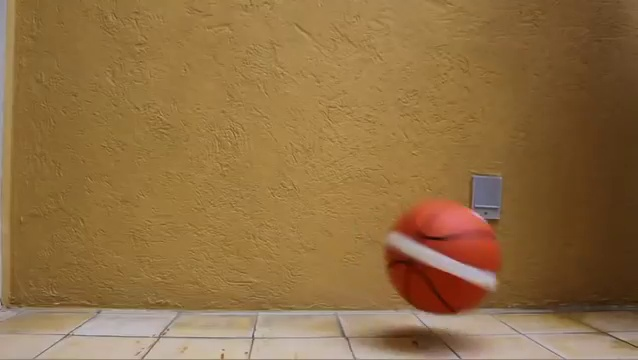ball: (384, 197, 505, 315)
